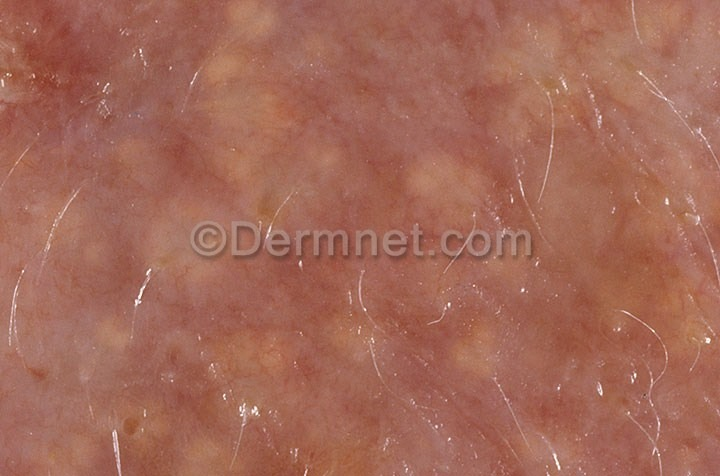Melasma: (2, 5, 720, 228), (12, 262, 720, 476)
